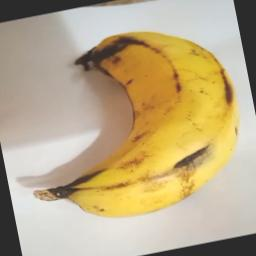Banana Unripe: (9, 10, 256, 235)
